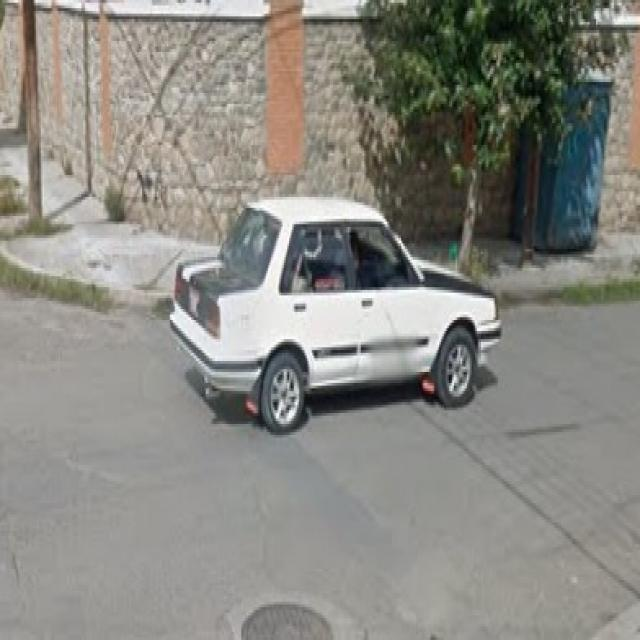cars: (180, 214, 503, 422)
